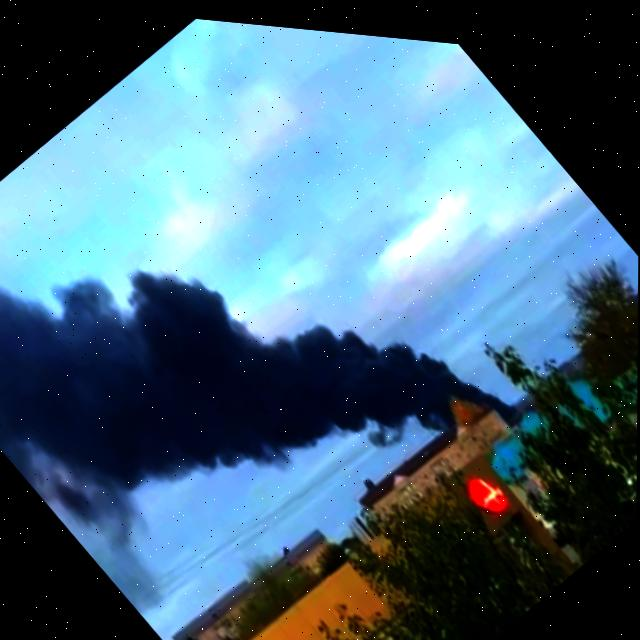Smoke: (0, 49, 507, 640)
